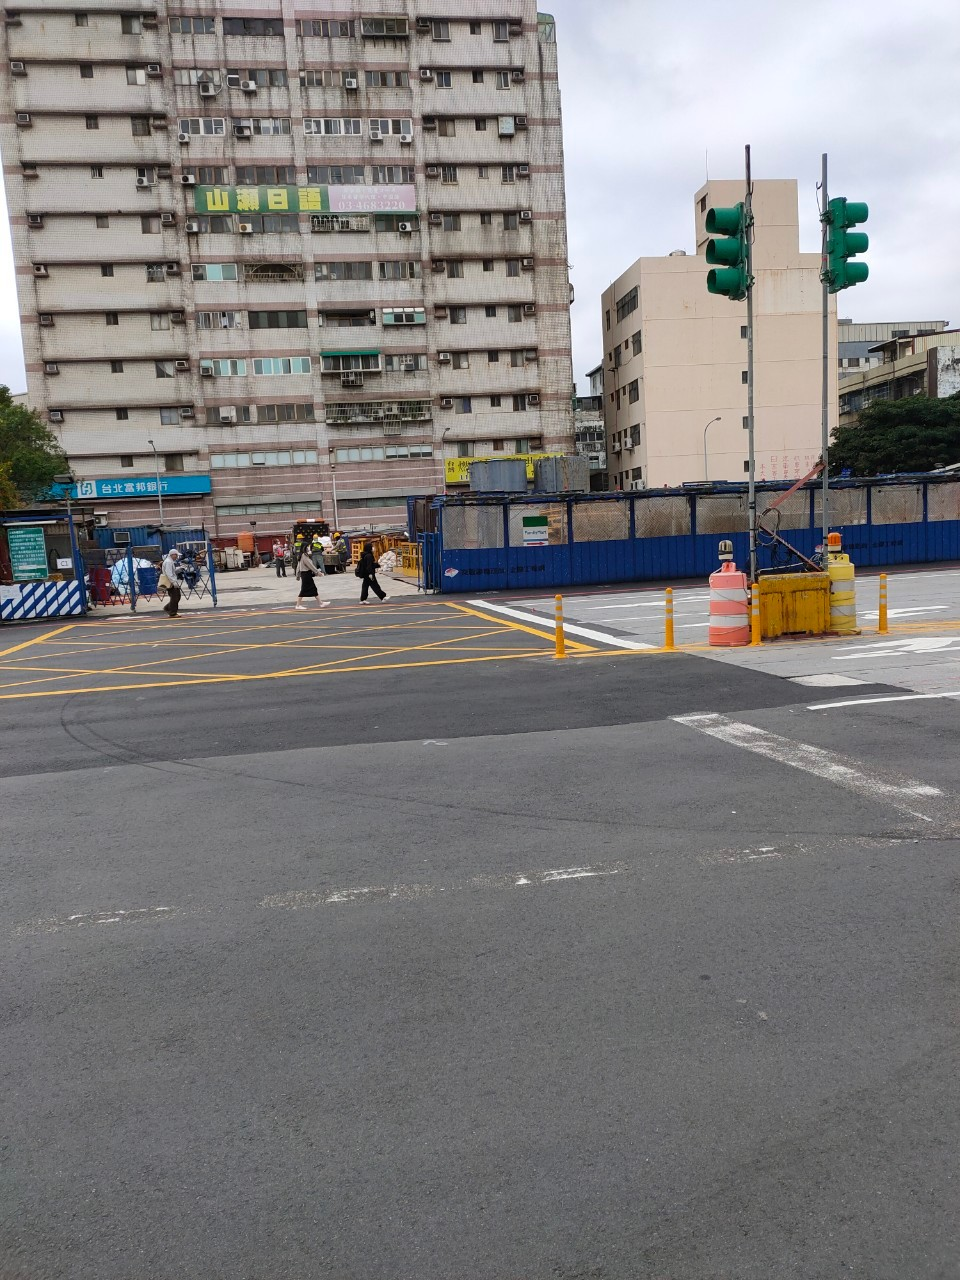people: (285, 537, 336, 629), (150, 541, 195, 629), (346, 541, 391, 612)
